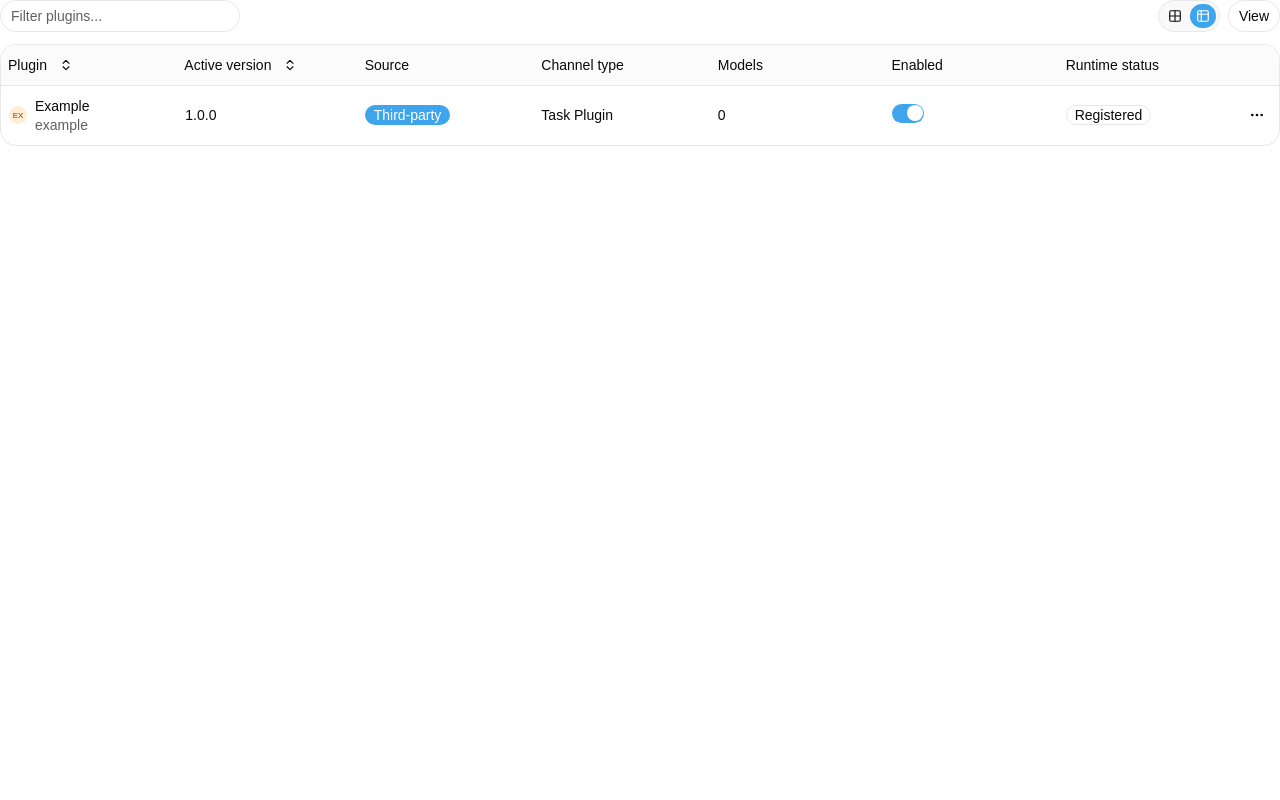
Test case: cancelling an in-use deletion never sends force and closes both confirmations
The image size is (1280, 800).
Click the button named "Open menu": (1257, 115) [1243, 101, 1271, 129]
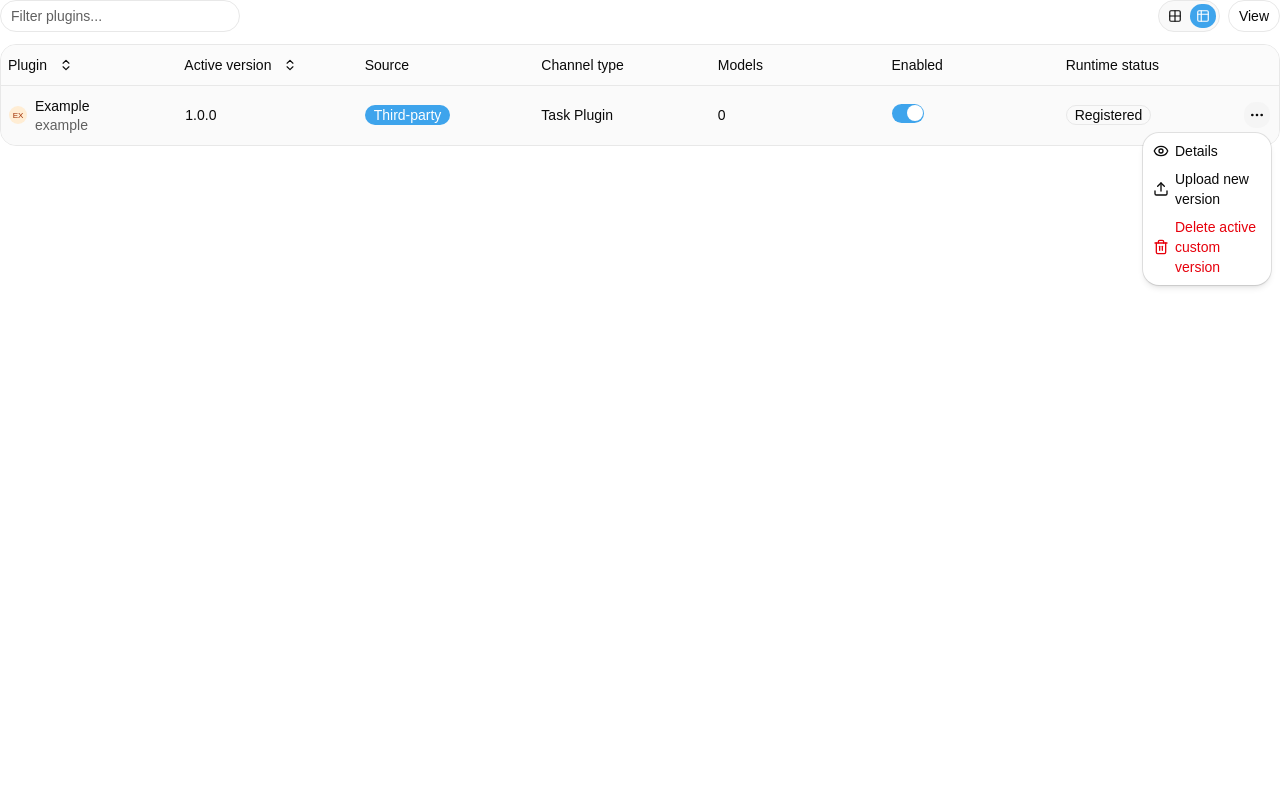
Click the menu item "Delete active custom version": (1207, 247) [1147, 213, 1267, 281]
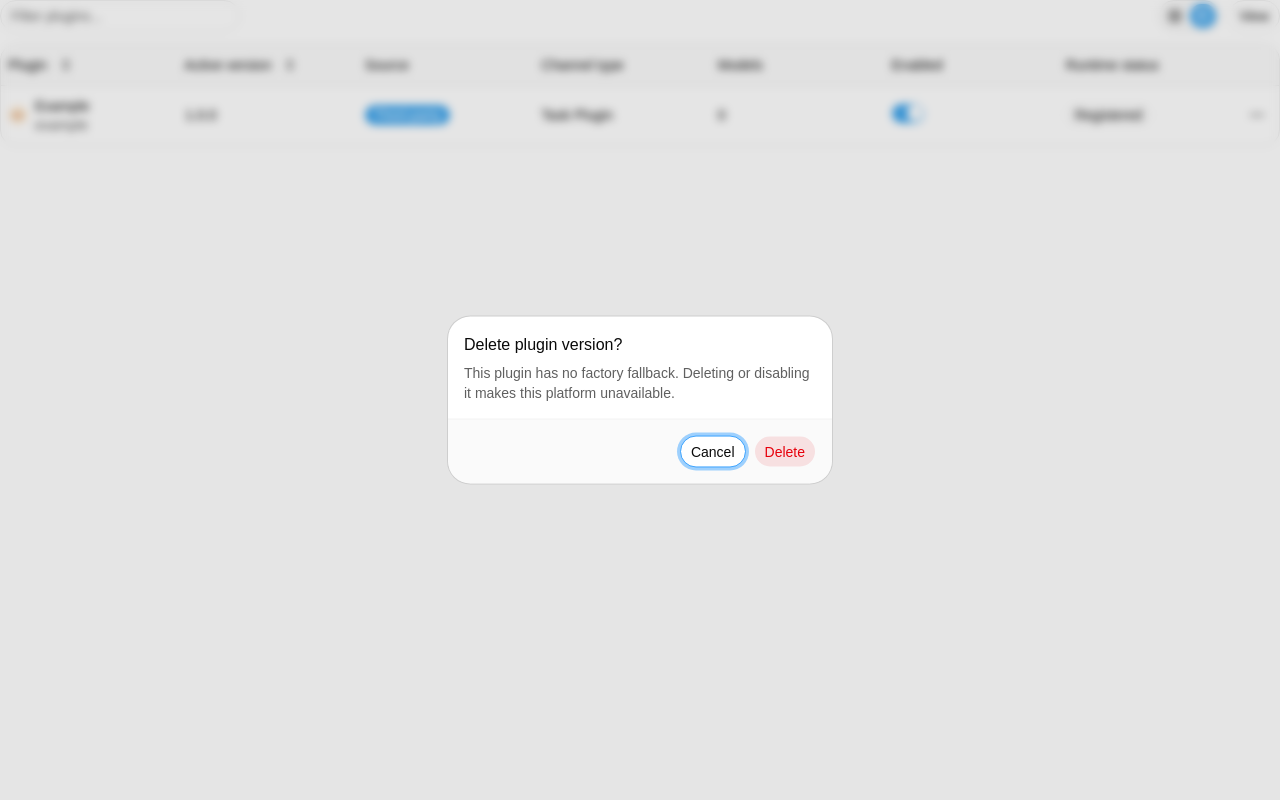
Click the button "Delete": (785, 452) [754, 436, 816, 468]
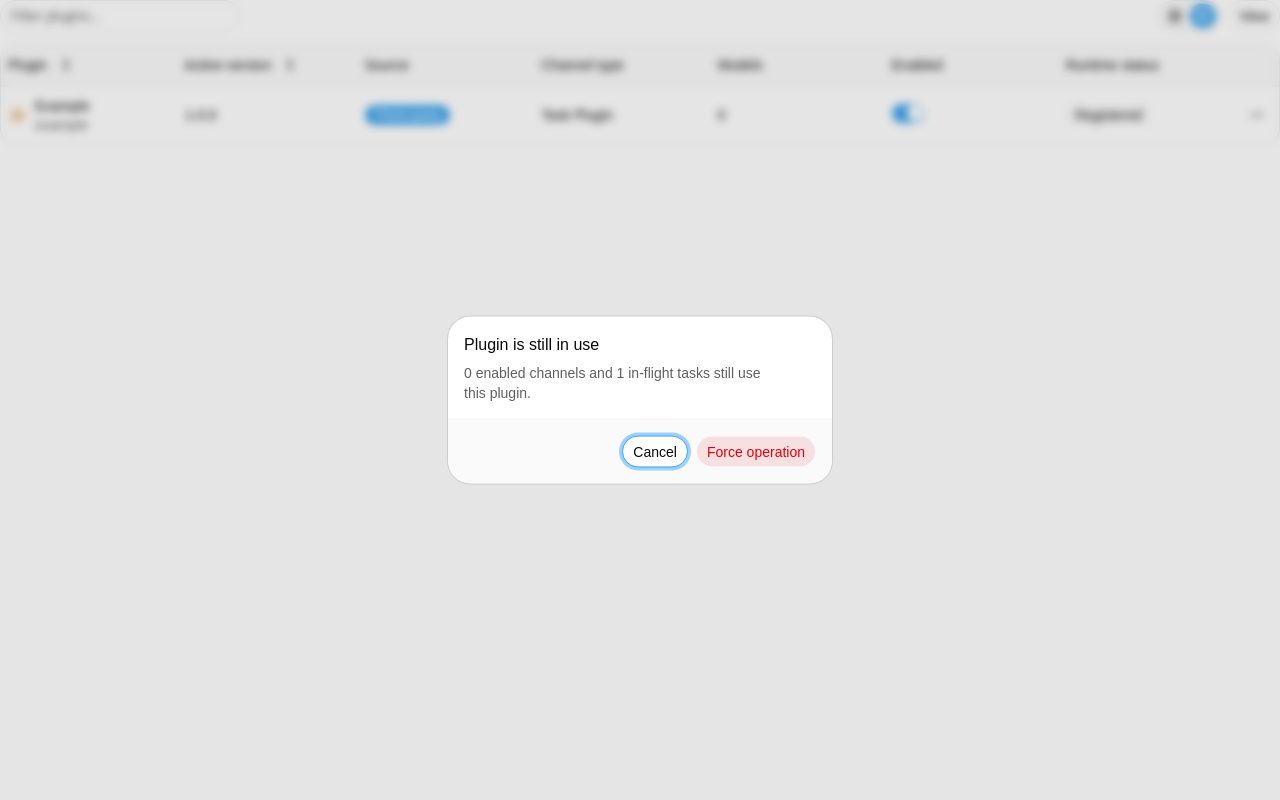
Result: the number of dialogs is 1 at [448, 316, 832, 484]
Click the button "Cancel": (655, 452) [622, 436, 688, 468]
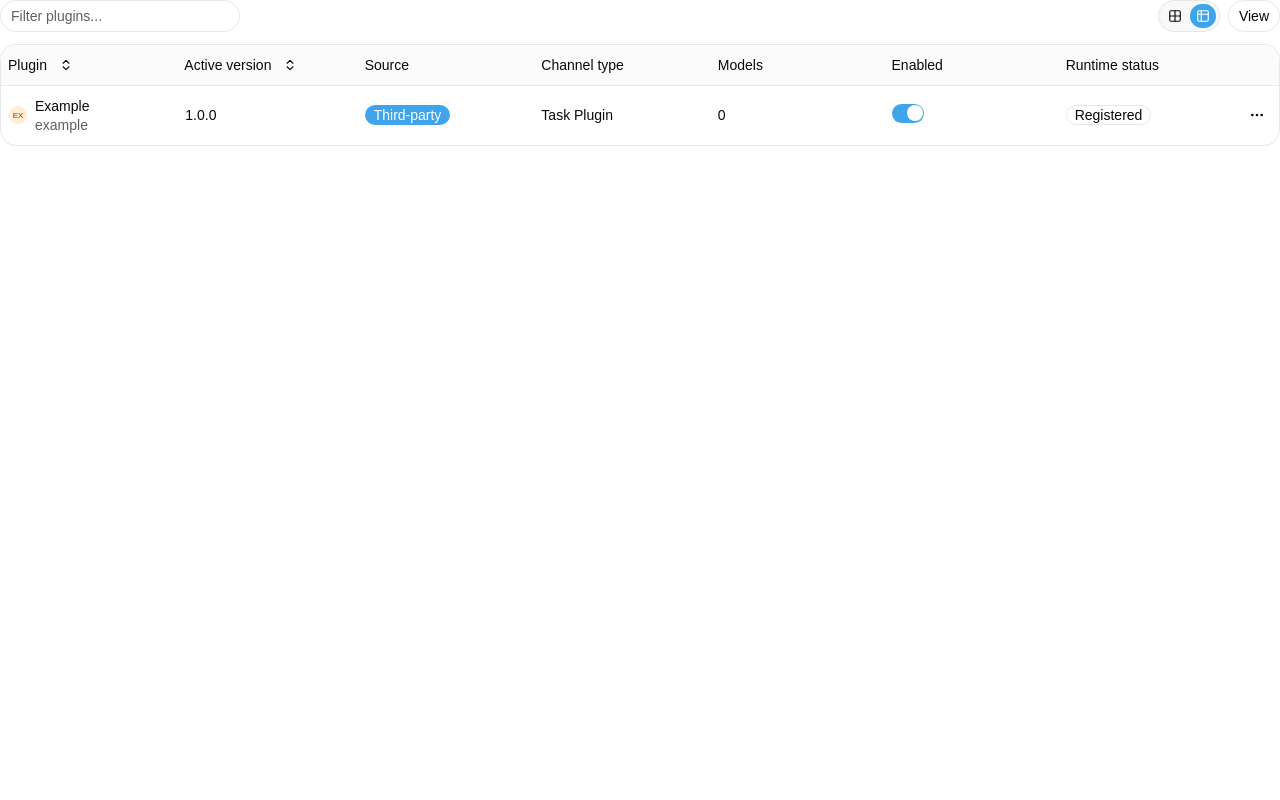
Result: the dialog is gone
